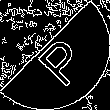P_NW: (24, 24, 86, 86)
